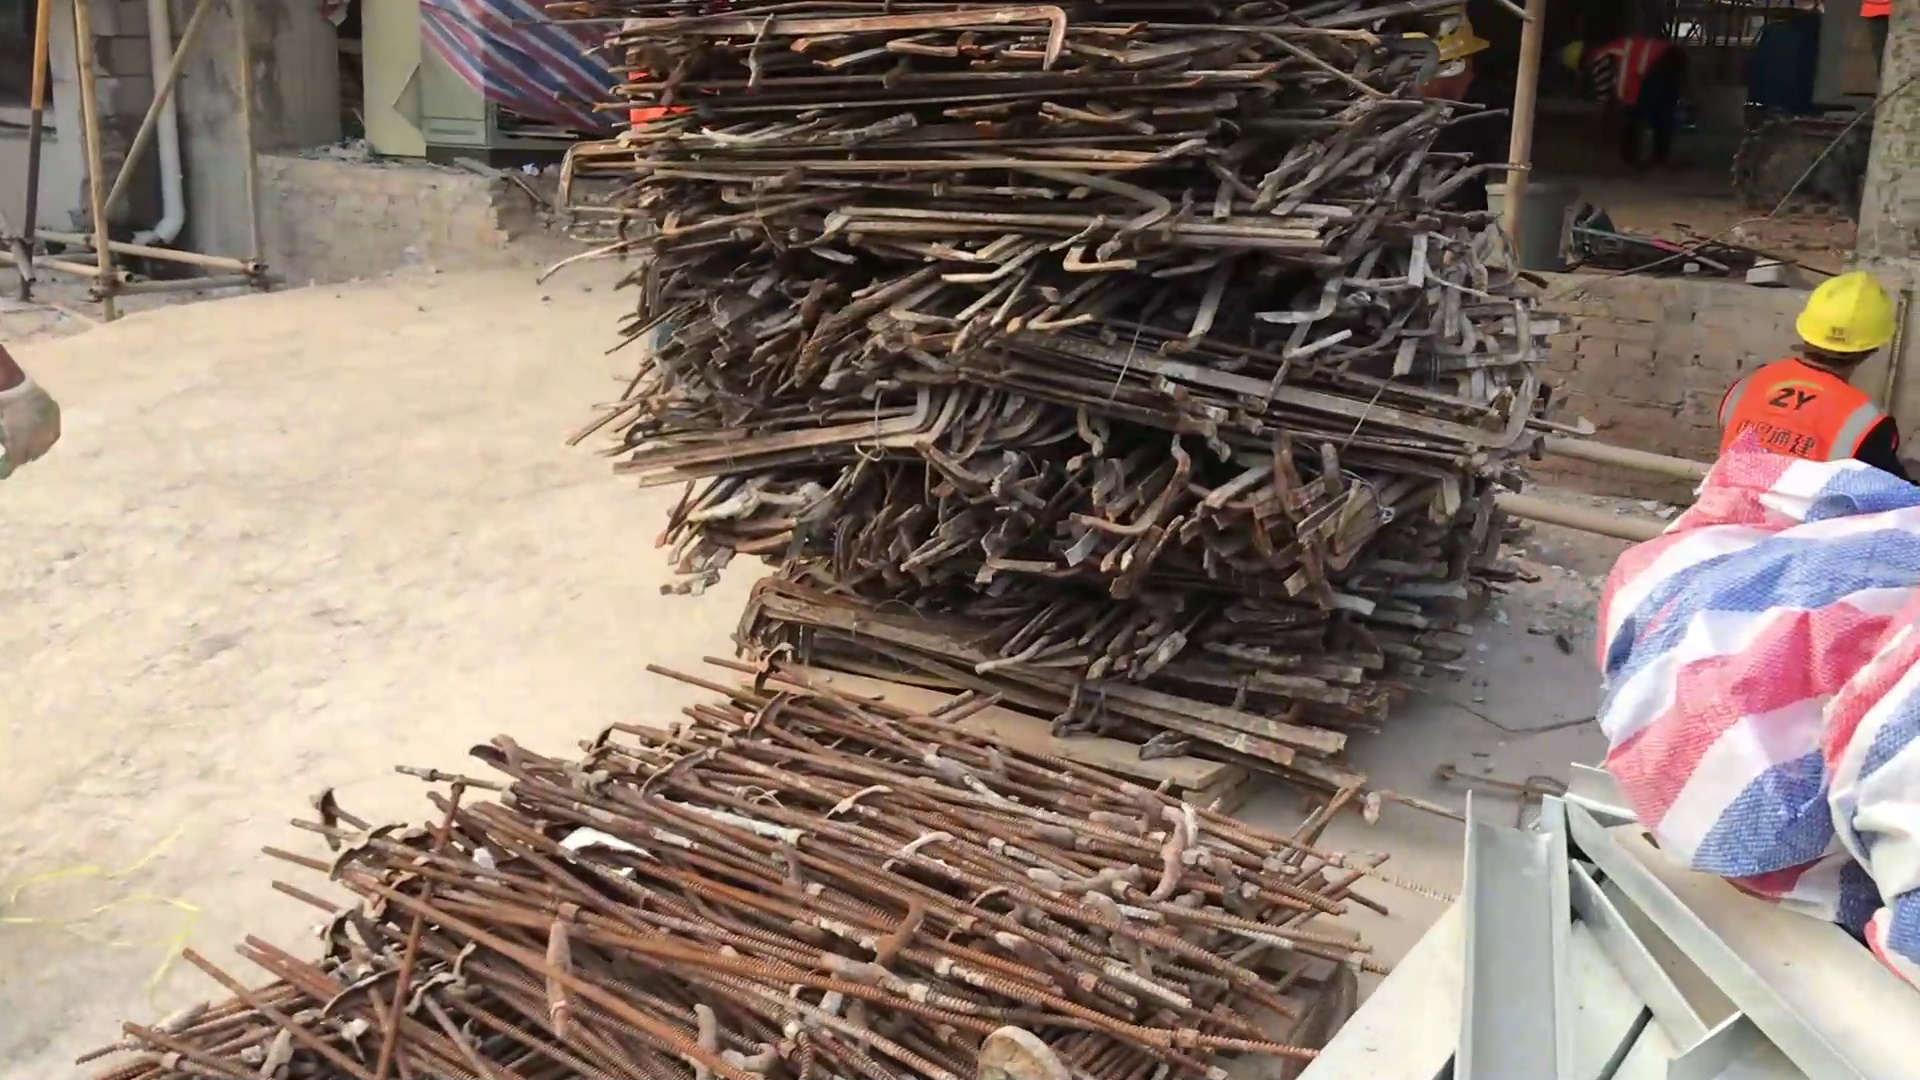helmet: (1786, 257, 1903, 371)
person: (1688, 257, 1920, 513)
vest: (1700, 355, 1893, 488)
